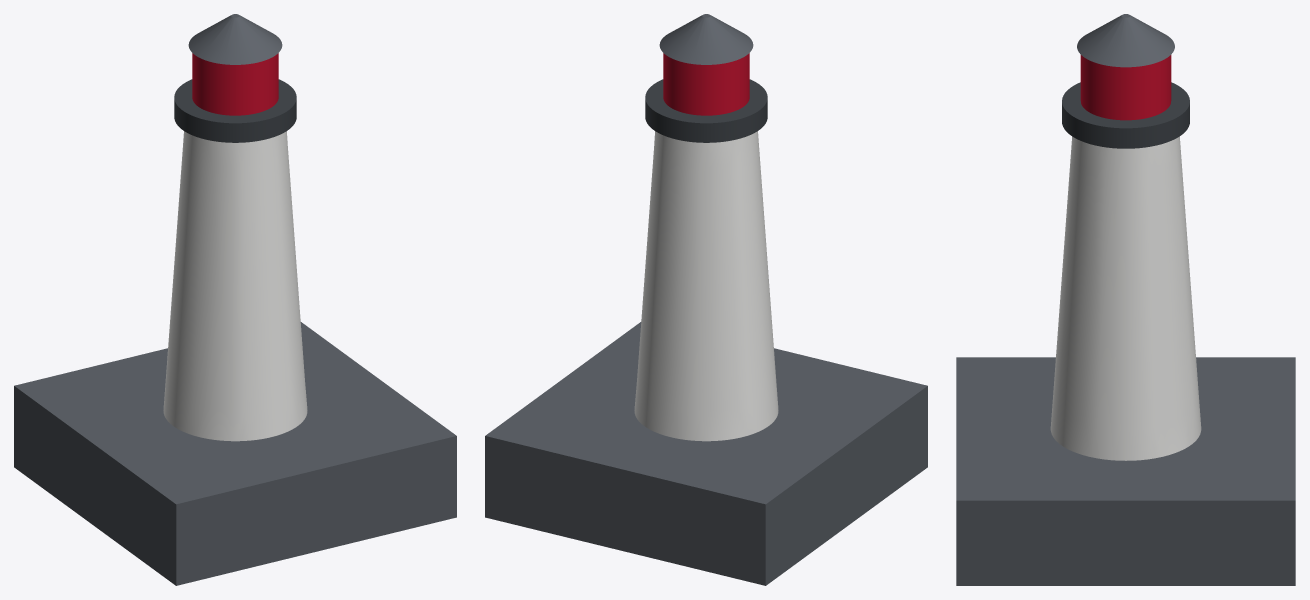
Rendered from g07-lighthouse-harbour.glb.
The picture shows the model from 3 angles, left to right: view 1: azimuth 30°, elevation 25°; view 2: azimuth 150°, elevation 25°; view 3: azimuth 270°, elevation 25°; orthographic projection. The views are drawn at different scales.
Parts seen in each view (by area): view 1: part0, part1, part3, part2, part4; view 2: part0, part1, part3, part2, part4; view 3: part0, part1, part3, part2, part4.
Boxes of the visible parts, x1,y1,x2,y2 form: part0: (14, 322, 456, 585); part1: (163, 131, 307, 441); part3: (192, 53, 278, 115); part2: (174, 79, 296, 142); part4: (188, 14, 282, 64); part0: (485, 322, 927, 585); part1: (634, 131, 778, 441); part3: (663, 53, 749, 115); part2: (645, 79, 767, 142); part4: (659, 14, 753, 64); part0: (956, 357, 1295, 585); part1: (1050, 136, 1201, 460); part3: (1080, 55, 1171, 120); part2: (1062, 82, 1189, 148); part4: (1077, 14, 1174, 67).
Size of the model in its own units: 9000 by 14600 by 9000.
